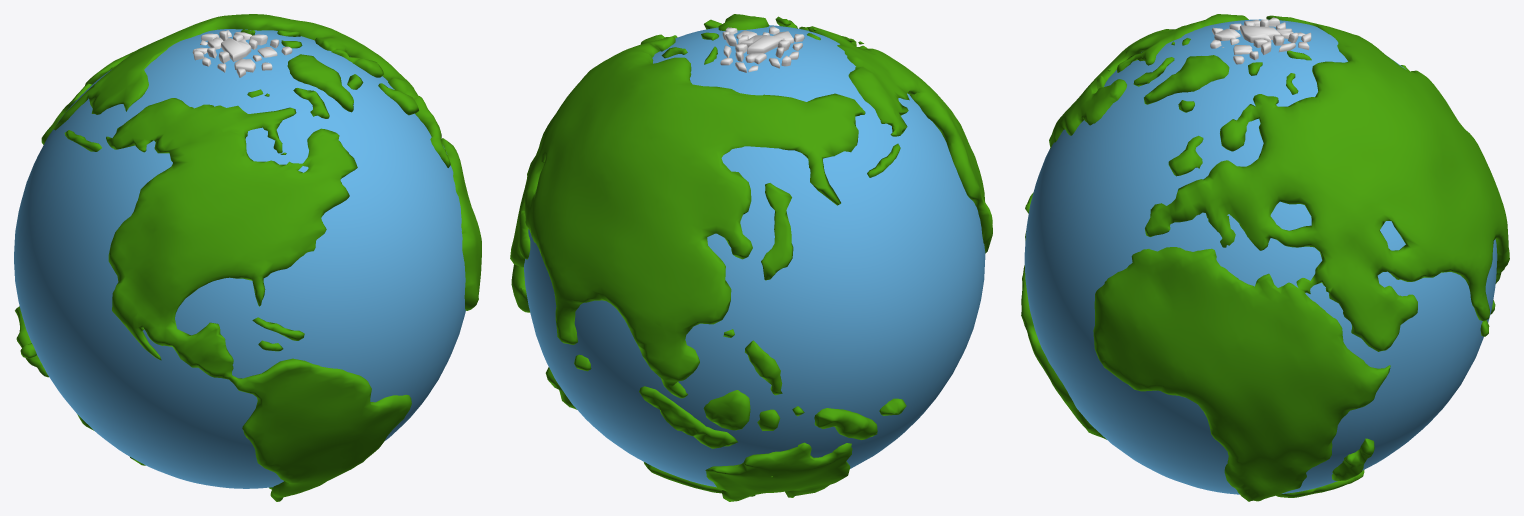
File: clay.fbx
3 views of the same model, side by side, from view 1: azimuth 30°, elevation 25°; view 2: azimuth 150°, elevation 25°; view 3: azimuth 270°, elevation 25° (orthographic). The views are drawn at different scales.
Parts seen in each view (by area): view 1: Sphere.001, Mball.001, Plane.001; view 2: Sphere.001, Mball.001, Plane.001; view 3: Mball.001, Sphere.001, Plane.001.
Part boxes in pixels (x1=…): Sphere.001: x1=14, y1=29, x2=465, y2=488; Mball.001: x1=15, y1=14, x2=481, y2=501; Plane.001: x1=192, y1=30, x2=292, y2=77; Sphere.001: x1=523, y1=25, x2=985, y2=487; Mball.001: x1=510, y1=14, x2=992, y2=501; Plane.001: x1=720, y1=26, x2=804, y2=72; Mball.001: x1=1021, y1=14, x2=1509, y2=501; Sphere.001: x1=1024, y1=19, x2=1497, y2=494; Plane.001: x1=1210, y1=17, x2=1311, y2=64.
Size of the model in its own units: 1989 by 2050 by 2032.
